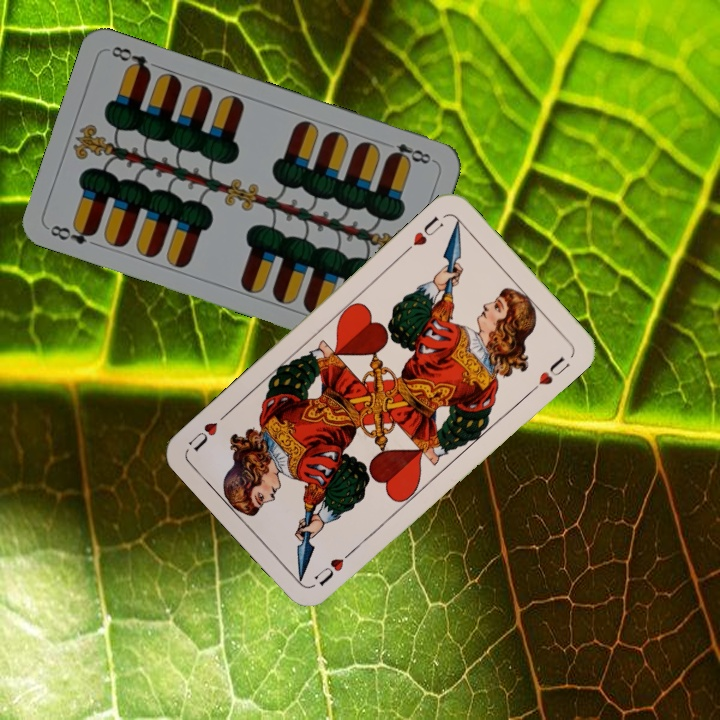E8: (384, 139, 437, 167), (46, 220, 100, 247)
HU: (310, 544, 358, 589), (400, 212, 446, 256)
